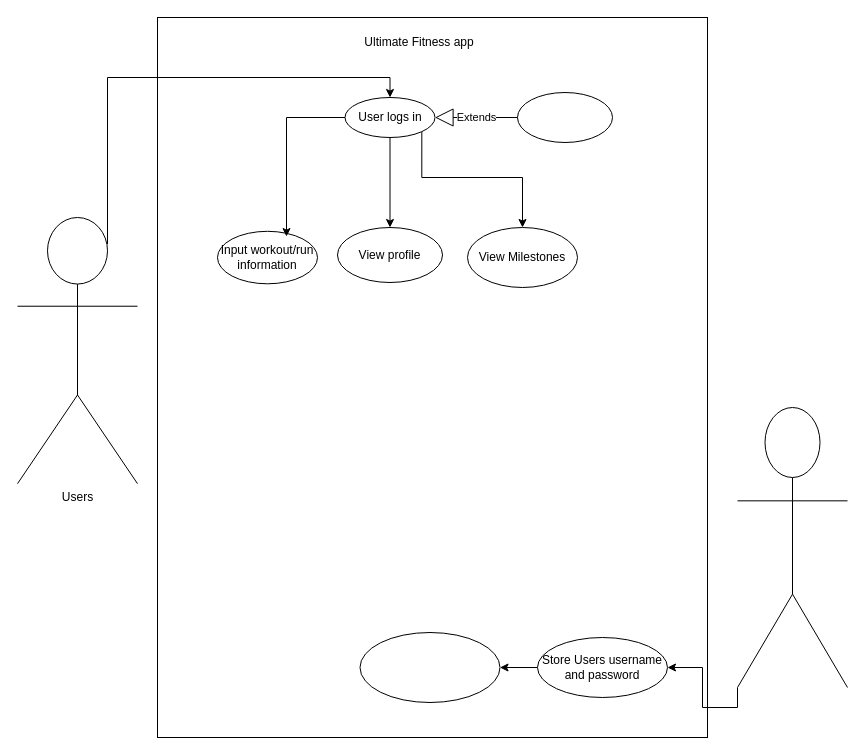
Image size: 865x755. Some labels were removed from this diagram. Each missing label, with the box of its shape:
Server: (736, 406, 848, 688)
Store workout/run information: (359, 632, 500, 702)
User creates account: (516, 92, 612, 142)
